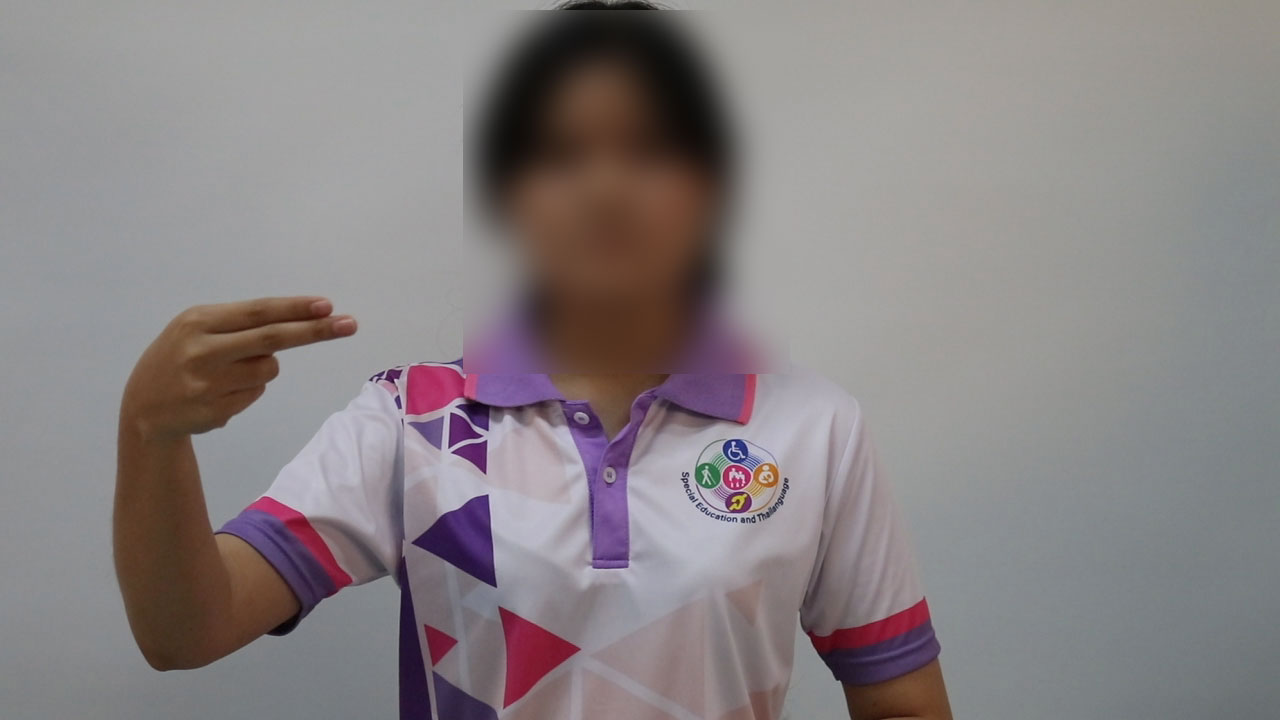hor: (108, 281, 374, 454)
